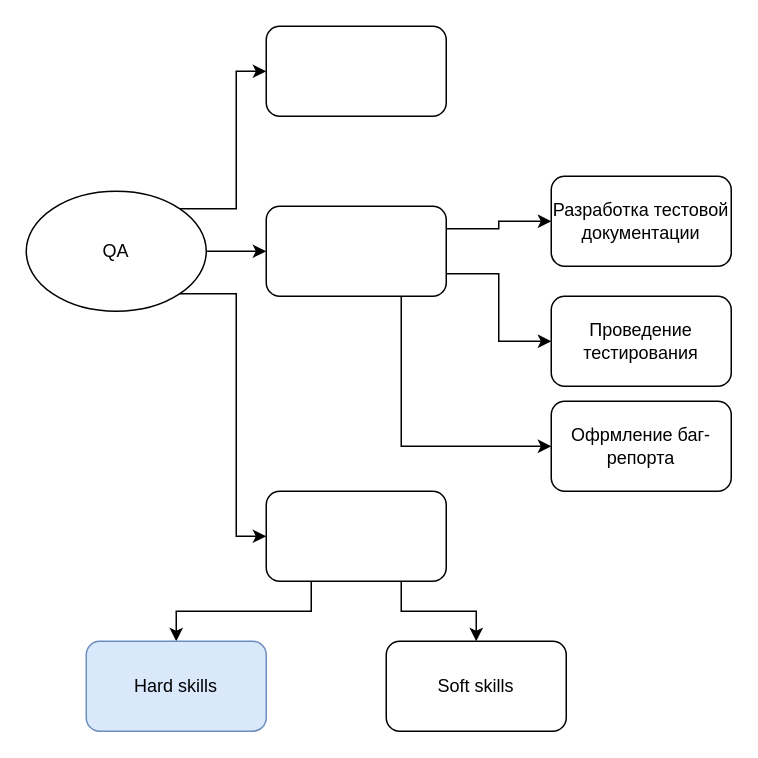
This 758x758 diagram has some shape labels left out. The box of each missing label's shape, as (x1, y1, x2, y2) in pixels:
SDLC: (265, 25, 446, 116)
Навыки: (265, 490, 446, 581)
Обязаности: (265, 205, 446, 296)
